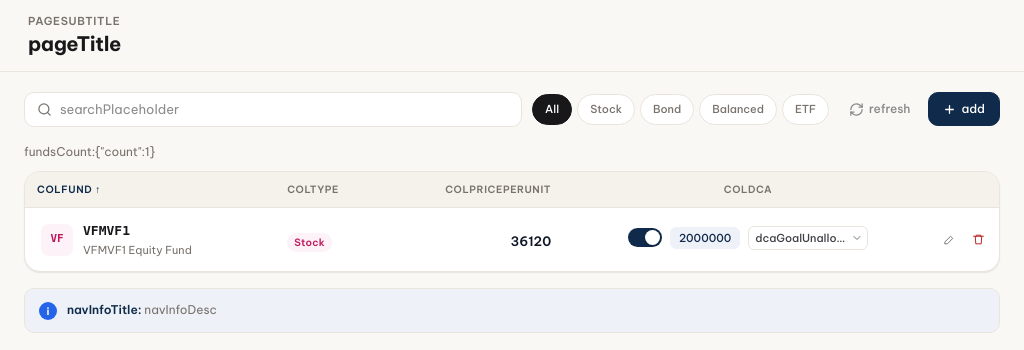
Test: DesktopFundLibraryView — DCA amount edit must not desync from the server (#2) › clearing an already-saved DCA amount keeps the row enabled and sends NO disabling PUT
Note: The amount button reflects the saved DCA amount.
Click the button with test id "dca-amount-btn-f1": (705, 238) [670,227,740,249]
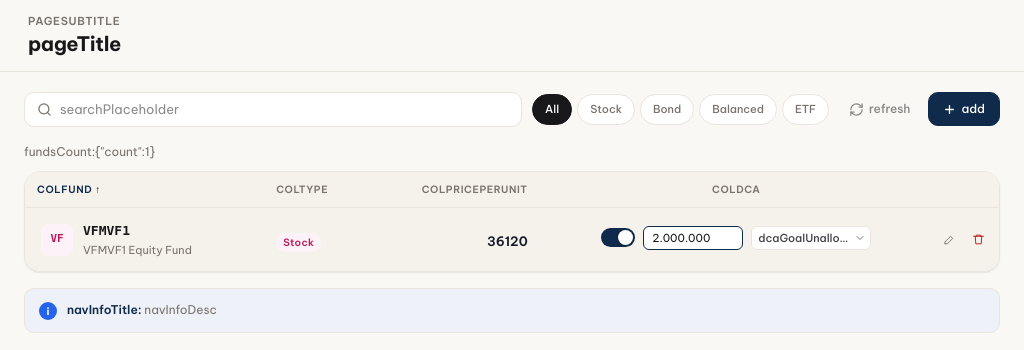
Clear the field with test id "dca-amount-input-f1": (693, 238) [643,226,743,250]
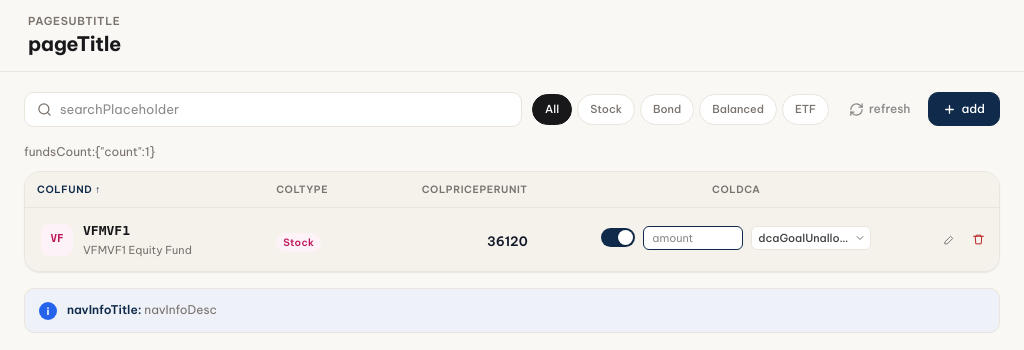
Leave the field with test id "dca-amount-input-f1", box [643,226,743,250]
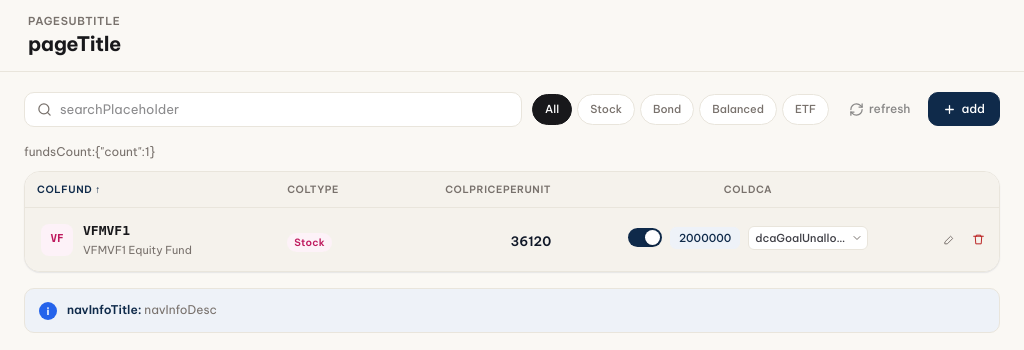
Expected: the button named "disableDca" is shown, [628,228,662,247]
Expected: the button with test id "dca-amount-btn-f1" is shown, [670,227,740,249]
